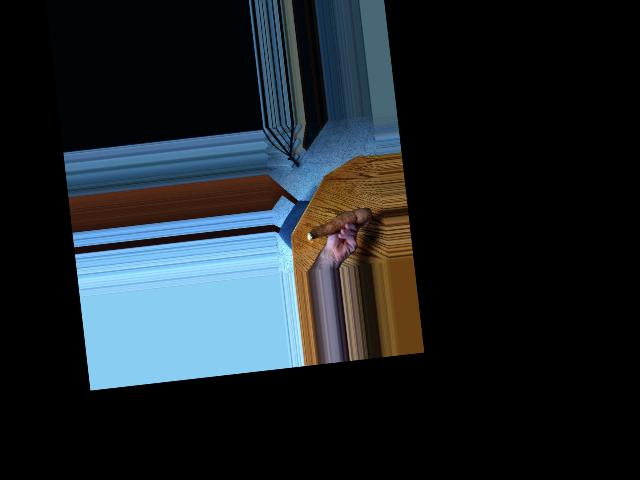sweet_potato: (303, 204, 372, 241)
